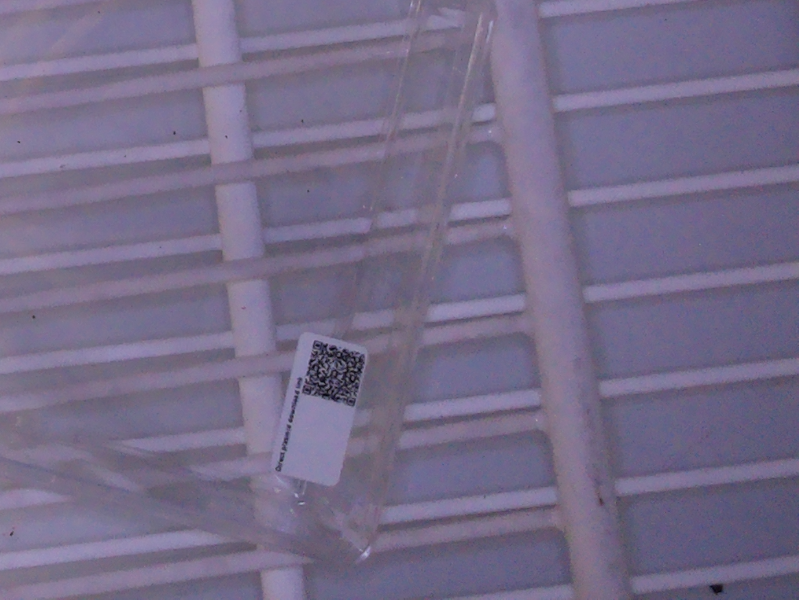plate: (1, 1, 500, 565)
